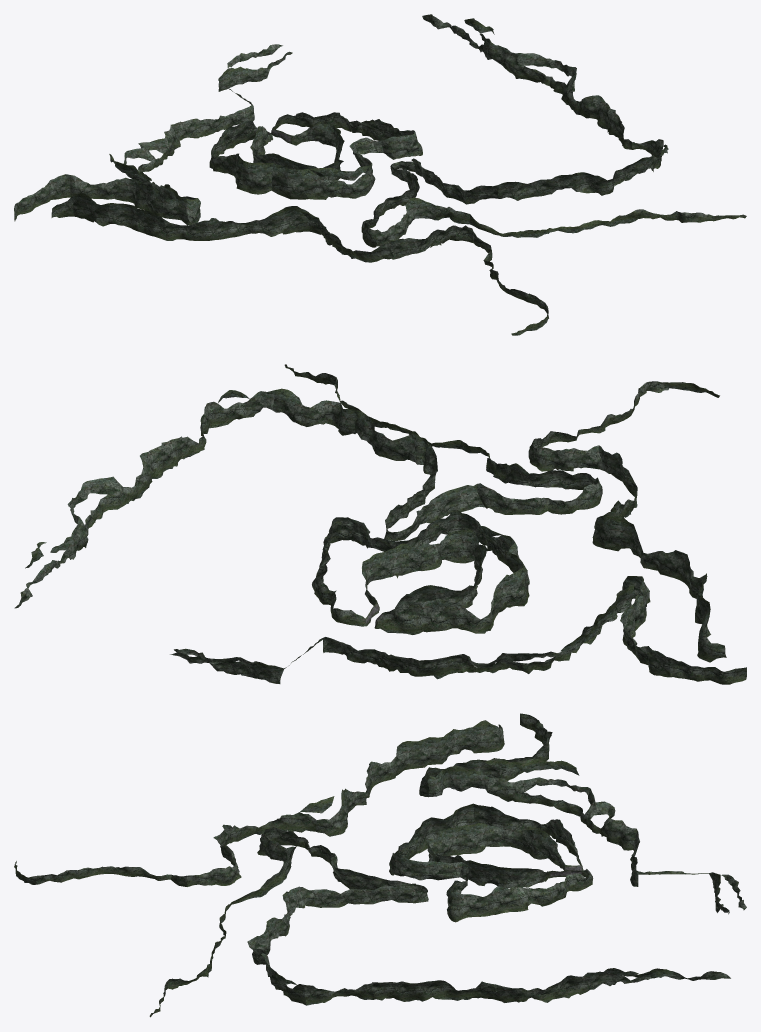
Rendered from Mis_Training_cliffs.fbx.
3 views of the same model, one above another, from view 1: azimuth 30°, elevation 25°; view 2: azimuth 150°, elevation 25°; view 3: azimuth 270°, elevation 25° (orthographic). The views are drawn at different scales.
Visible parts, largest first — view 1: F_kulisaa32, F_kulisaa19, F_kulisaa68, F_kulisaa54, F_kulisaa22, F_kulisaa55, F_kulisaa17, F_kulisaa56, F_kulisaa33, F_kulisaa14, F_kulisaa51, F_kulisaa63 (+20 smaller); view 2: F_kulisaa58, F_kulisaa68, F_kulisaa85, F_kulisaa56, F_kulisaa28, F_kulisaa01, F_kulisaa25, F_kulisaa67, F_kulisaa17, F_kulisaa14, F_kulisaa19, F_kulisaa91 (+34 smaller); view 3: F_kulisaa87, F_kulisaa54, F_kulisaa68, F_kulisaa55, F_kulisaa35, F_kulisaa08, F_kulisaa60, F_kulisaa99, F_kulisaa19, F_kulisaa51, F_kulisaa05, F_kulisaa72 (+24 smaller).
Part boxes in pixels (box(x1,y1,x2,y2)): F_kulisaa32: box(271, 163, 343, 199); F_kulisaa19: box(134, 180, 200, 225); F_kulisaa68: box(514, 53, 576, 102); F_kulisaa54: box(108, 203, 167, 240); F_kulisaa22: box(69, 175, 135, 203); F_kulisaa55: box(51, 192, 109, 226); F_kulisaa17: box(174, 112, 241, 140); F_kulisaa56: box(465, 181, 532, 204); F_kulisaa33: box(238, 160, 273, 194); F_kulisaa14: box(218, 51, 292, 91); F_kulisaa51: box(283, 206, 325, 236); F_kulisaa63: box(422, 14, 494, 59); F_kulisaa58: box(240, 388, 319, 426); F_kulisaa68: box(67, 476, 126, 547); F_kulisaa85: box(416, 484, 484, 524); F_kulisaa56: box(385, 434, 437, 482); F_kulisaa28: box(483, 568, 527, 632); F_kulisaa01: box(406, 598, 446, 634); F_kulisaa25: box(670, 658, 746, 684); F_kulisaa67: box(377, 543, 421, 579); F_kulisaa17: box(344, 644, 420, 676); F_kulisaa14: box(174, 648, 284, 683); F_kulisaa19: box(622, 576, 650, 637); F_kulisaa91: box(573, 445, 622, 481); F_kulisaa87: box(437, 822, 504, 855); F_kulisaa54: box(397, 729, 455, 774); F_kulisaa68: box(480, 975, 570, 1002); F_kulisaa55: box(453, 720, 504, 754); F_kulisaa35: box(311, 886, 393, 907); F_kulisaa08: box(394, 851, 461, 880); F_kulisaa60: box(372, 981, 433, 1001); F_kulisaa99: box(24, 866, 144, 884); F_kulisaa19: box(419, 759, 500, 797); F_kulisaa51: box(300, 789, 347, 836); F_kulisaa05: box(525, 873, 585, 906); F_kulisaa72: box(522, 777, 590, 816).
Size of the model in its own units: 19288 by 1487 by 20692.
